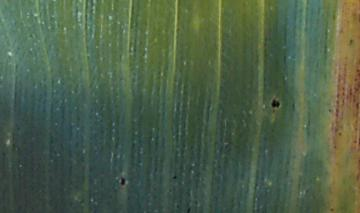tarspot: (271, 99, 281, 109), (119, 176, 127, 186), (171, 173, 178, 180), (186, 206, 191, 213)
